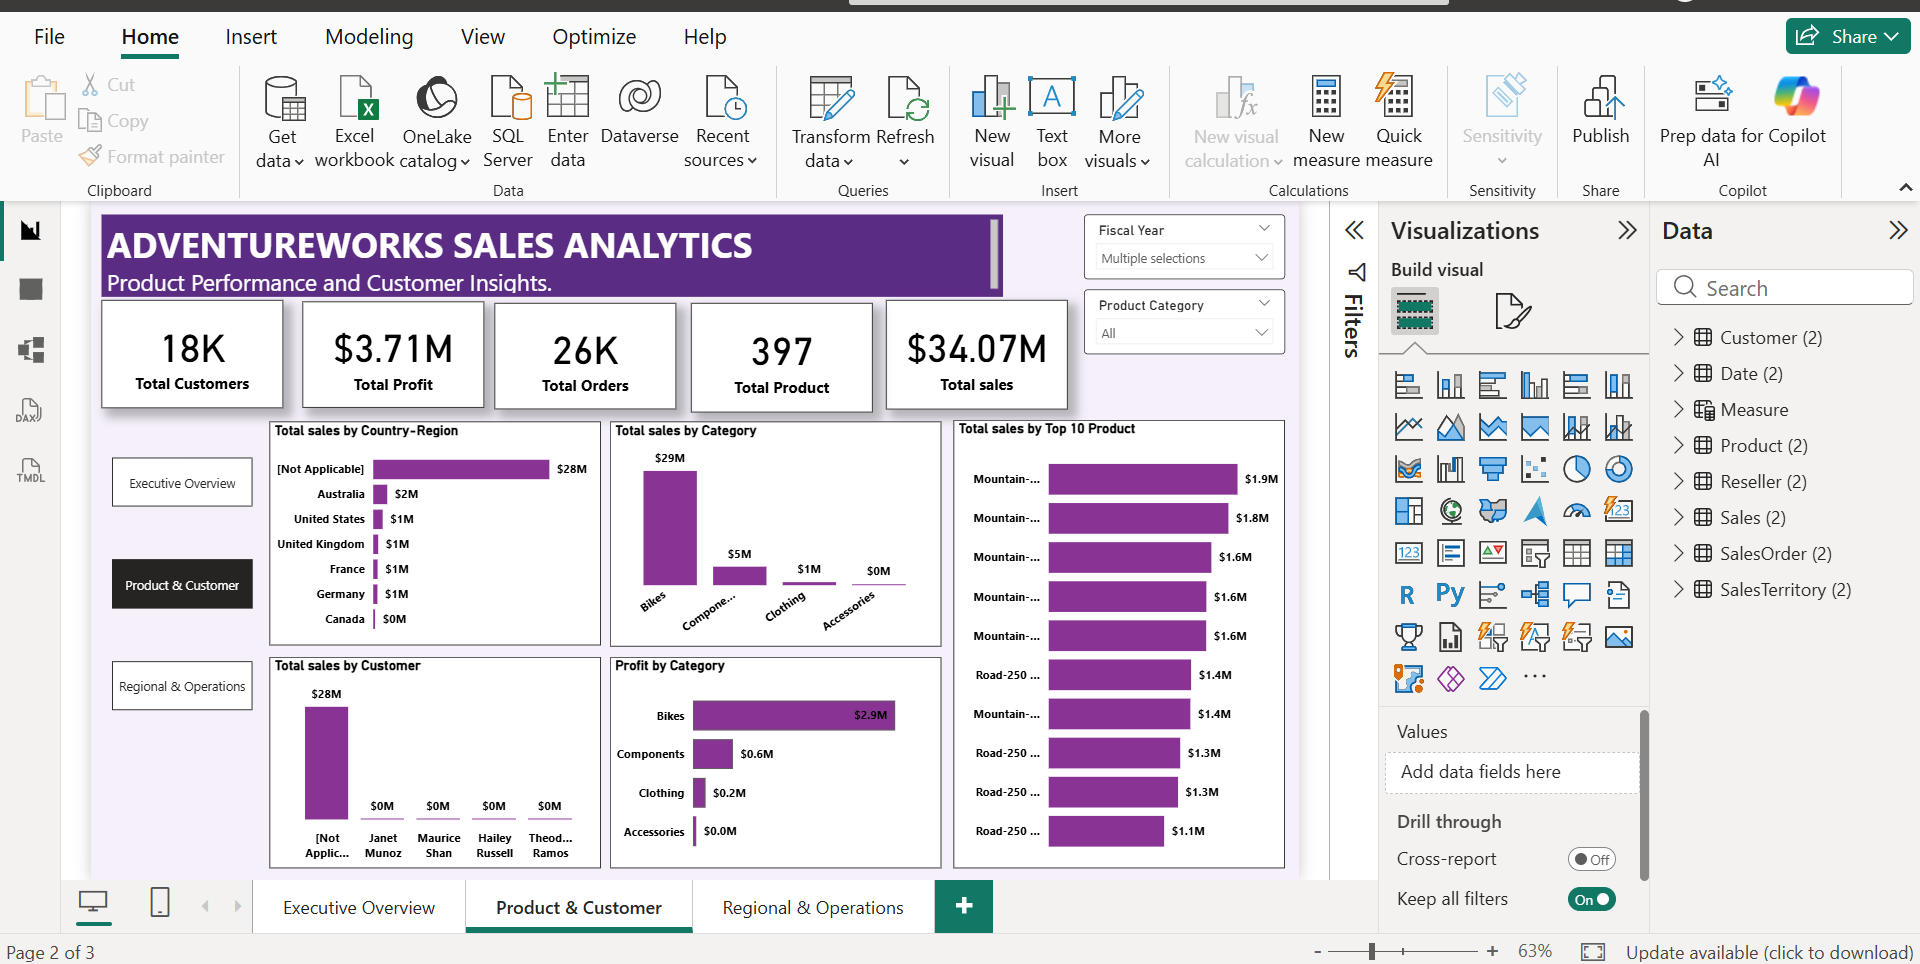

Layout of this report page (visuals, bound fields, positions):
{"tool":"powerbi","page":{"name":"Product & Customer ","canvas":[1280,720],"ordinal":1},"visuals":[{"type":"textbox","box":[11.1,14.3,956,87.5],"z":0},{"type":"pageNavigator","box":[22.3,272,149.5,268.8],"z":1000},{"type":"slicer","fields":{"Values":["Date (2).Fiscal Year"]},"box":[1053,14.3,213.1,68.4],"z":2000},{"type":"slicer","fields":{"Values":["Product (2).Category"]},"box":[1053,93.8,213.1,68.4],"z":3000},{"type":"card","fields":{"Values":["Measure.Total Customers"]},"box":[11.1,105,192.5,114.5],"z":4000},{"type":"card","fields":{"Values":["Measure.Total sales"]},"box":[843,105,192.5,116.1],"z":5000},{"type":"card","fields":{"Values":["Measure.Total Profit"]},"box":[224.3,106.6,192.5,112.9],"z":6000},{"type":"card","fields":{"Values":["Measure.Total Product"]},"box":[636.2,108.2,192.5,116.1],"z":7000},{"type":"card","fields":{"Values":["Measure.Total Orders"]},"box":[427.9,108.2,192.5,112.9],"z":8000},{"type":"clusteredColumnChart","fields":{"Category":["Product (2).Category"],"Y":["Measure.Total sales"]},"box":[550.4,233.8,351.5,238.6],"z":9000},{"type":"clusteredBarChart","title":"Profit by Category","fields":{"Category":["Product (2).Category"],"Y":["Measure.Total Profit"]},"box":[550.4,483.5,351.5,224.3],"z":10000},{"type":"clusteredBarChart","title":"Total sales by Top 10 Product","fields":{"Category":["Product (2).Product"],"Y":["Measure.Total sales"]},"box":[914.6,232.2,351.5,475.6],"z":11000},{"type":"clusteredColumnChart","fields":{"Category":["Customer (2).Customer"],"Y":["Measure.Total sales"]},"box":[189.3,483.5,351.5,224.3],"z":12000},{"type":"clusteredBarChart","fields":{"Category":["Customer (2).Country-Region"],"Y":["Measure.Total sales"]},"box":[189.3,233.8,351.5,237],"z":13000}]}

Visuals, with their boxes on the page's 1280x720 design canvas (x1, y1, x2, y2). These are canvas units, not pixel positions in the 1920x964 screenshot, which may show the page scaled, cropped or inside an application window:
textbox: left=11, top=14, right=967, bottom=102
pageNavigator: left=22, top=272, right=172, bottom=541
slicer - Date (2).Fiscal Year: left=1053, top=14, right=1266, bottom=83
slicer - Product (2).Category: left=1053, top=94, right=1266, bottom=162
card - Measure.Total Customers: left=11, top=105, right=204, bottom=220
card - Measure.Total sales: left=843, top=105, right=1036, bottom=221
card - Measure.Total Profit: left=224, top=107, right=417, bottom=220
card - Measure.Total Product: left=636, top=108, right=829, bottom=224
card - Measure.Total Orders: left=428, top=108, right=620, bottom=221
clusteredColumnChart - Product (2).Category x Measure.Total sales: left=550, top=234, right=902, bottom=472
"Profit by Category" clusteredBarChart: left=550, top=484, right=902, bottom=708
"Total sales by Top 10 Product" clusteredBarChart: left=915, top=232, right=1266, bottom=708
clusteredColumnChart - Customer (2).Customer x Measure.Total sales: left=189, top=484, right=541, bottom=708
clusteredBarChart - Customer (2).Country-Region x Measure.Total sales: left=189, top=234, right=541, bottom=471
